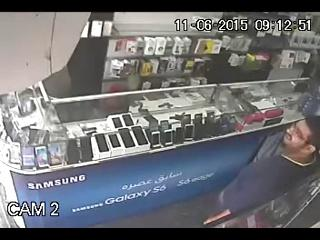Normal: (203, 101, 320, 226)
